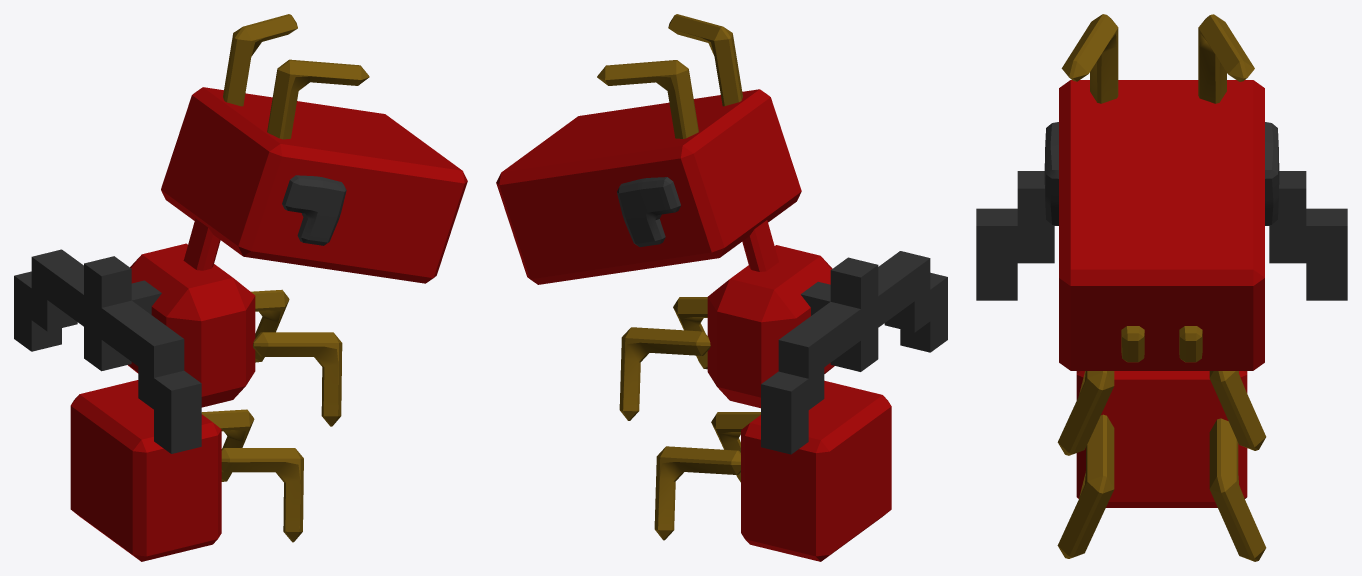
File: Enemy2Tank.fbx
The picture shows the model from 3 angles, left to right: view 1: azimuth 30°, elevation 25°; view 2: azimuth 150°, elevation 25°; view 3: azimuth 270°, elevation 25°; orthographic projection. The views are drawn at different scales.
Parts seen in each view (by area): view 1: pasted__polySurface4, pasted__Torso2, pasted__Jetpack, pasted__Torso1, pasted__Leg4, pasted__Leg2, pasted__Antennae1, pasted__polySurface5, pasted__Antennae2, pasted__Leg1, pasted__Neck1, pasted__Leg3; view 2: pasted__polySurface4, pasted__Torso2, pasted__Jetpack, pasted__Torso1, pasted__Leg3, pasted__Leg1, pasted__Antennae2, pasted__polySurface6, pasted__Antennae1, pasted__Neck1, pasted__Leg2, pasted__Leg4; view 3: pasted__polySurface4, pasted__Torso2, pasted__Jetpack, pasted__Leg1, pasted__Leg2, pasted__Antennae1, pasted__Antennae2, pasted__Leg4, pasted__Leg3, pasted__polySurface5, pasted__polySurface6, pasted__polySurface2 (+1 smaller).
Part boxes in pixels (x1,y1,x2,y2): pasted__polySurface4: [161, 87, 467, 283]; pasted__Torso2: [70, 380, 221, 561]; pasted__Jetpack: [14, 249, 201, 453]; pasted__Torso1: [128, 243, 255, 407]; pasted__Leg4: [253, 332, 342, 426]; pasted__Leg2: [221, 448, 303, 542]; pasted__Antennae1: [267, 59, 369, 139]; pasted__polySurface5: [282, 175, 346, 245]; pasted__Antennae2: [223, 14, 297, 106]; pasted__Leg1: [201, 409, 254, 481]; pasted__Neck1: [183, 218, 220, 270]; pasted__Leg3: [251, 289, 289, 362]; pasted__polySurface4: [496, 89, 801, 284]; pasted__Torso2: [741, 380, 891, 561]; pasted__Jetpack: [761, 251, 947, 454]; pasted__Torso1: [707, 245, 834, 408]; pasted__Leg3: [619, 327, 710, 420]; pasted__Leg1: [654, 446, 740, 540]; pasted__Antennae2: [597, 60, 698, 138]; pasted__polySurface6: [617, 177, 680, 246]; pasted__Antennae1: [668, 14, 742, 106]; pasted__Neck1: [742, 220, 778, 271]; pasted__Leg2: [711, 412, 760, 482]; pasted__Leg4: [673, 297, 707, 369]; pasted__polySurface4: [1059, 80, 1264, 370]; pasted__Torso2: [1076, 371, 1247, 507]; pasted__Jetpack: [976, 171, 1347, 300]; pasted__Leg1: [1209, 418, 1266, 561]; pasted__Leg2: [1057, 414, 1114, 558]; pasted__Antennae1: [1061, 14, 1118, 103]; pasted__Antennae2: [1198, 14, 1254, 103]; pasted__Leg4: [1057, 371, 1114, 455]; pasted__Leg3: [1209, 371, 1266, 450]; pasted__polySurface5: [1044, 122, 1058, 225]; pasted__polySurface6: [1265, 122, 1279, 225]; pasted__polySurface2: [1121, 326, 1144, 362].
Size of the model in its own units: 72.22 by 96 by 58.5.
